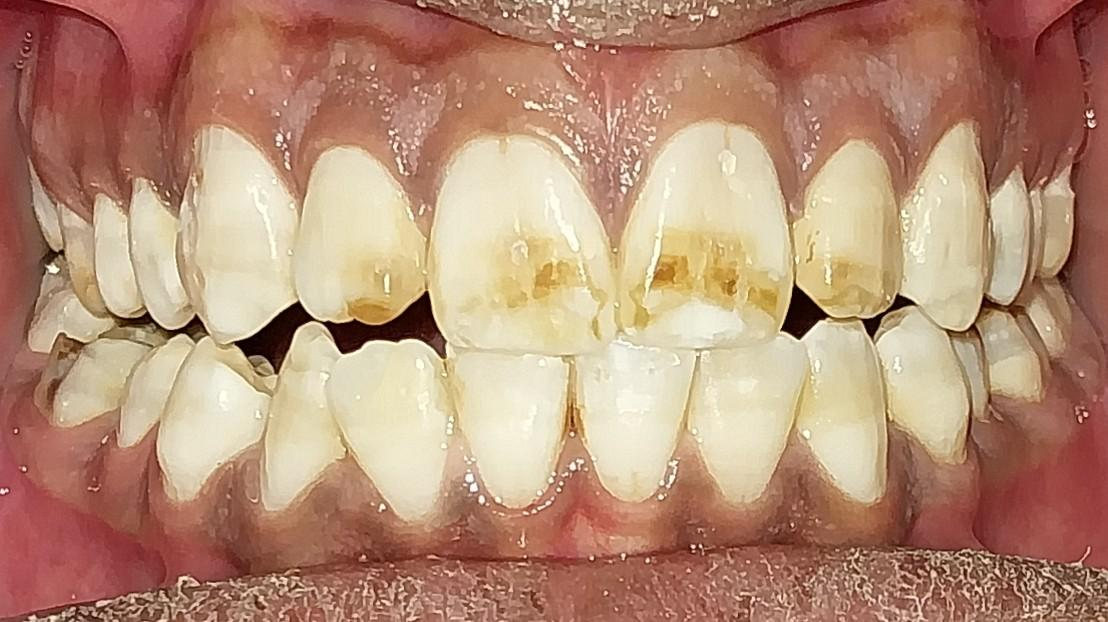D: (33, 324, 165, 428)
